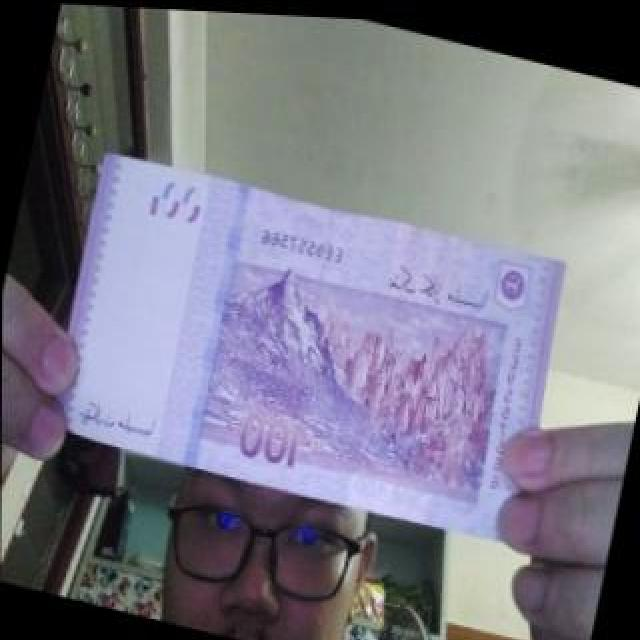100 Ringgit: (40, 142, 578, 548)
